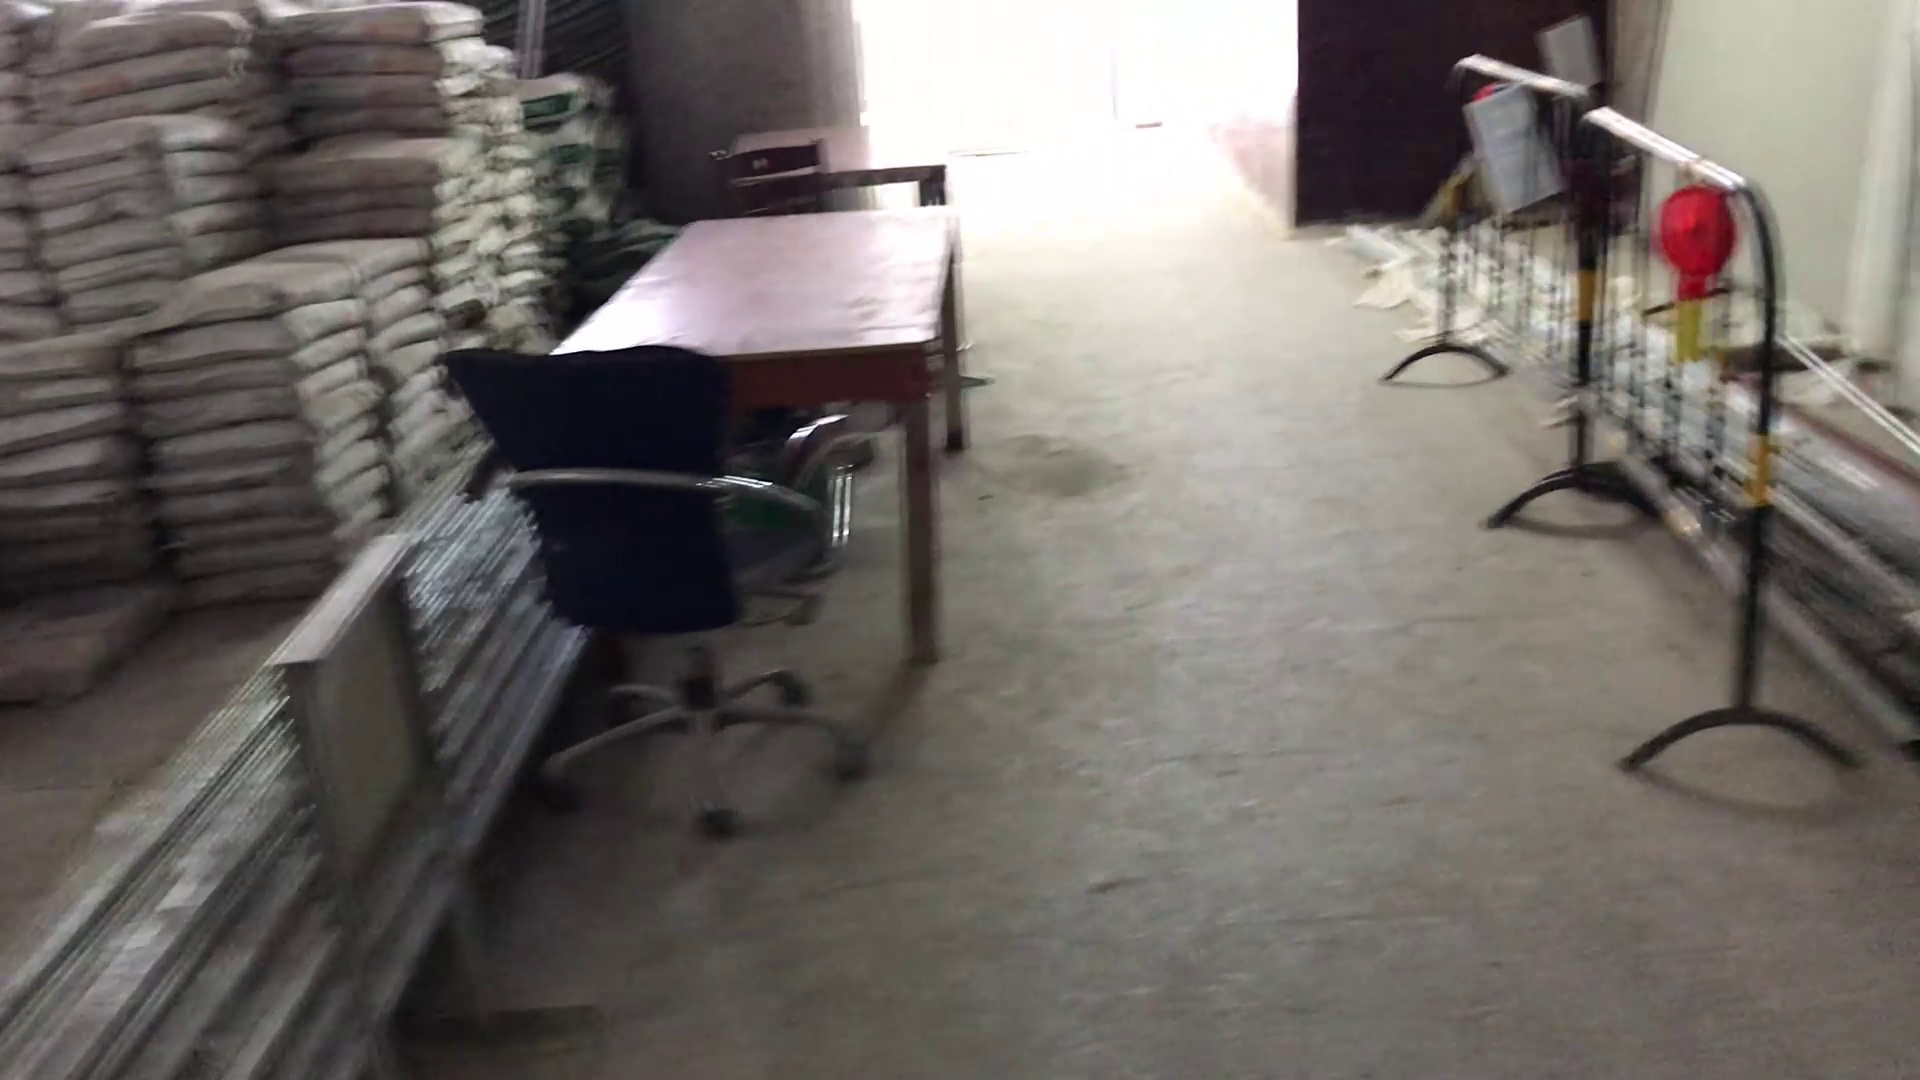fence: (1422, 37, 1869, 798)
